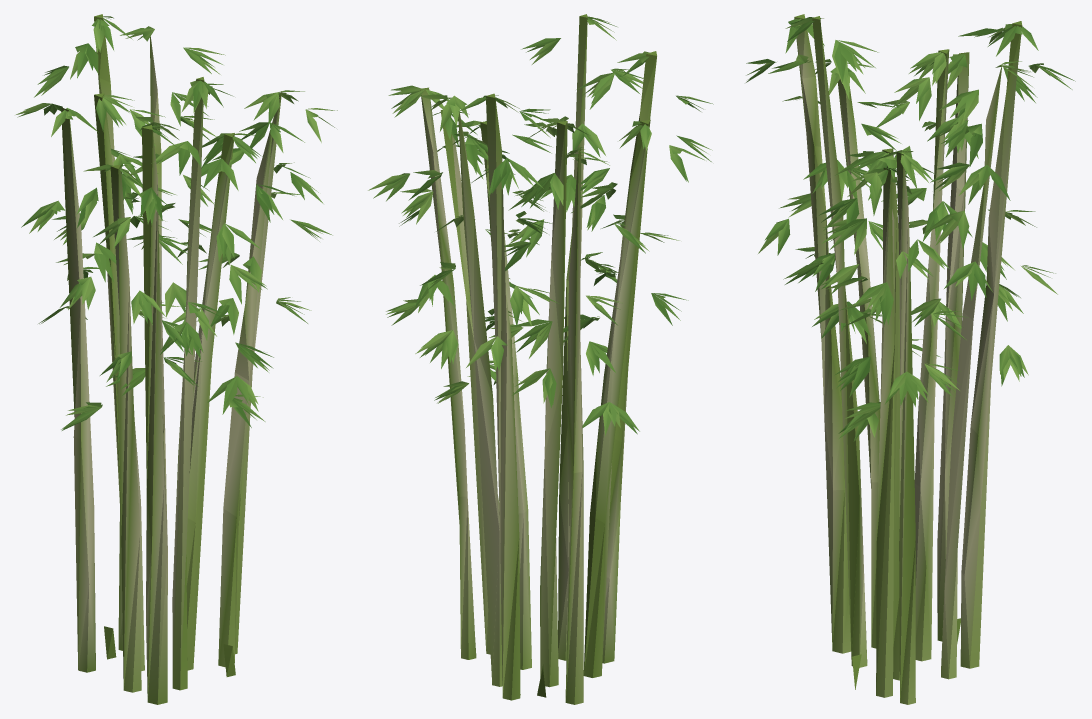
File: zen_bamboo-lod1.glb
3 renders of one model, left to right at view 1: azimuth 30°, elevation 25°; view 2: azimuth 150°, elevation 25°; view 3: azimuth 270°, elevation 25°, orthographic. The views are drawn at different scales.
Parts seen in each view (by area): view 1: zen_bamboo; view 2: zen_bamboo; view 3: zen_bamboo.
Part boxes in pixels (left/top/right/bottom): zen_bamboo: left=16, top=14, right=337, bottom=704; zen_bamboo: left=368, top=14, right=713, bottom=704; zen_bamboo: left=746, top=14, right=1075, bottom=704.
Size of the model in its own units: 4.91 by 9.99 by 4.66.
